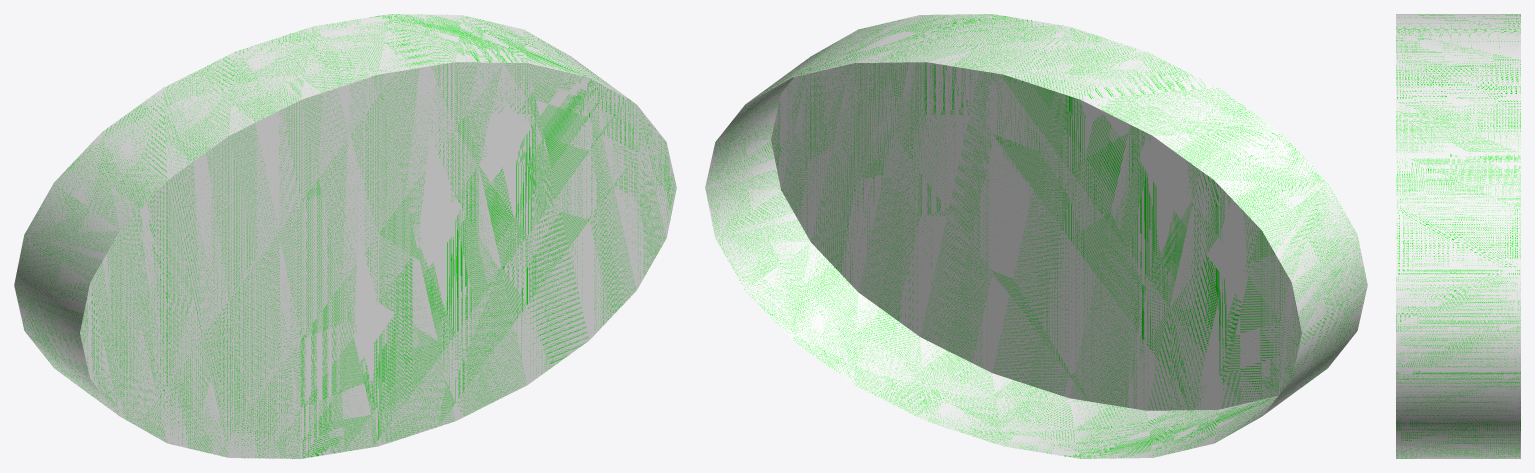
Rendered from original-72.obj.
3 views of the same model, side by side, from view 1: azimuth 30°, elevation 25°; view 2: azimuth 150°, elevation 25°; view 3: azimuth 270°, elevation 25° (orthographic). The views are drawn at different scales.
Visible parts, largest first — view 1: #ID382; view 2: #ID382; view 3: #ID382.
Part boxes in pixels (x1,y1,x2,y2): #ID382: (14, 14, 676, 458); #ID382: (705, 14, 1367, 458); #ID382: (1396, 14, 1520, 458).
Bounding box in the file's own units: 0.0364 × 0.0216 × 0.00694.
